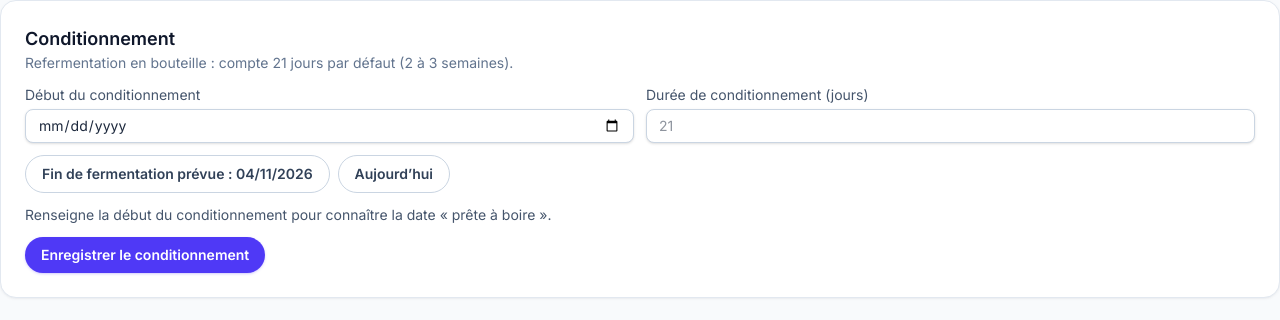
Test case: ConditioningCard › date modifiable, avec une suggestion non contraignante › un clic sur la suggestion remplit la date, qu’on peut ensuite changer librement
Click the button "Fin de fermentation prévue : 04/11/2026" at (177, 174), box [25, 155, 330, 193]
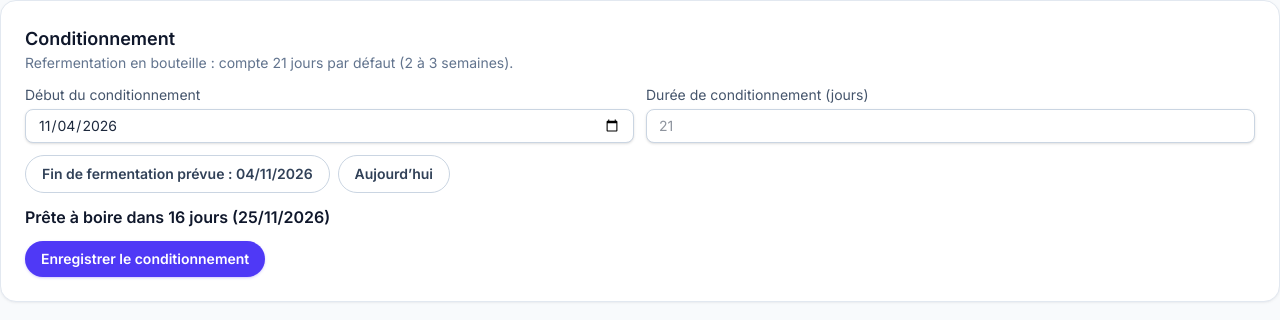
expect the date field labelled "Début du conditionnement" holds "2026-11-04": met
Type "2026-11-12" into the date field labelled "Début du conditionnement" at (330, 126), box [25, 109, 634, 143]
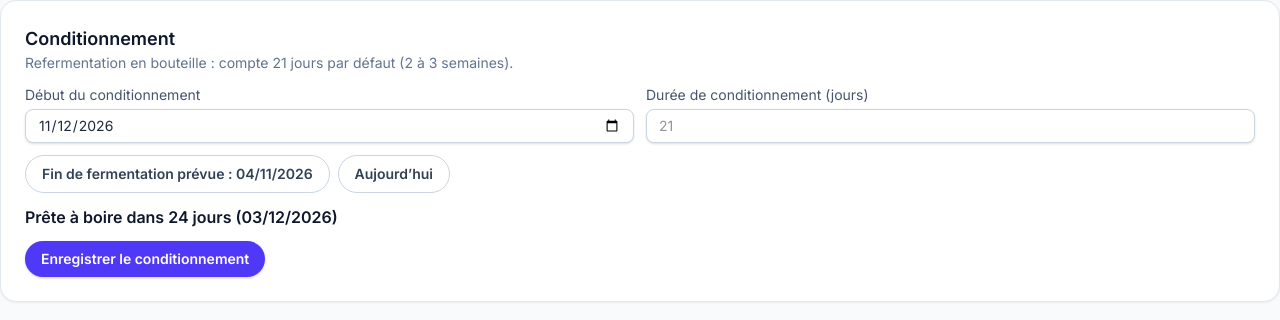
expect the text "Prête à boire dans 24 jours (03/12/2026)" is shown: met, box [25, 207, 338, 227]
